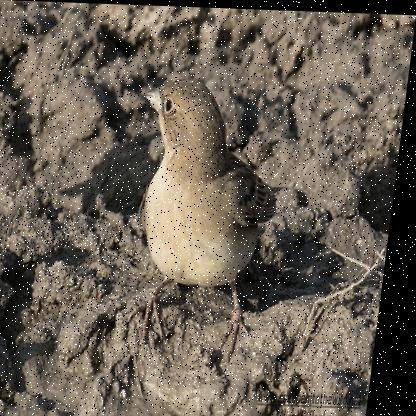Burung: (115, 77, 292, 357)
